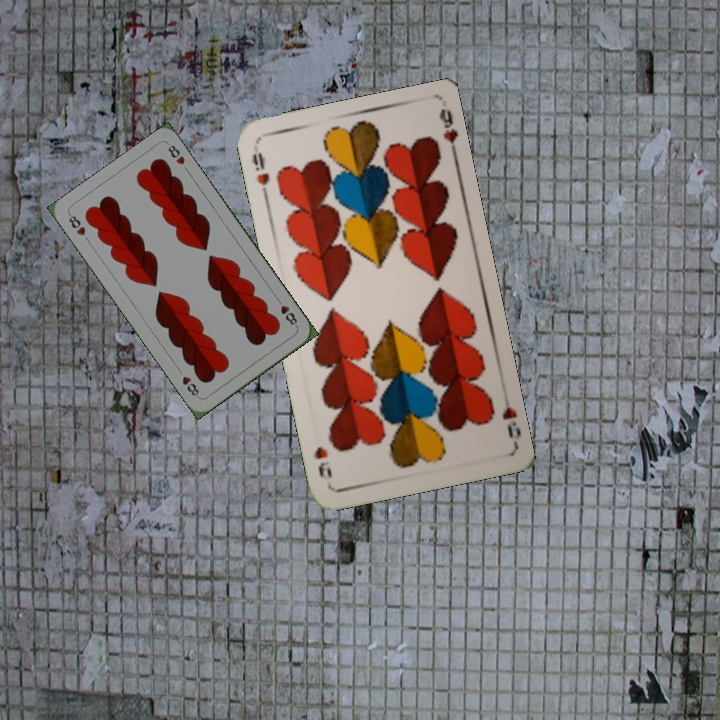H8: (272, 294, 300, 330), (64, 210, 88, 238)
H9: (248, 148, 272, 202), (498, 402, 522, 440)
